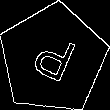P_SW: (26, 28, 80, 90)
